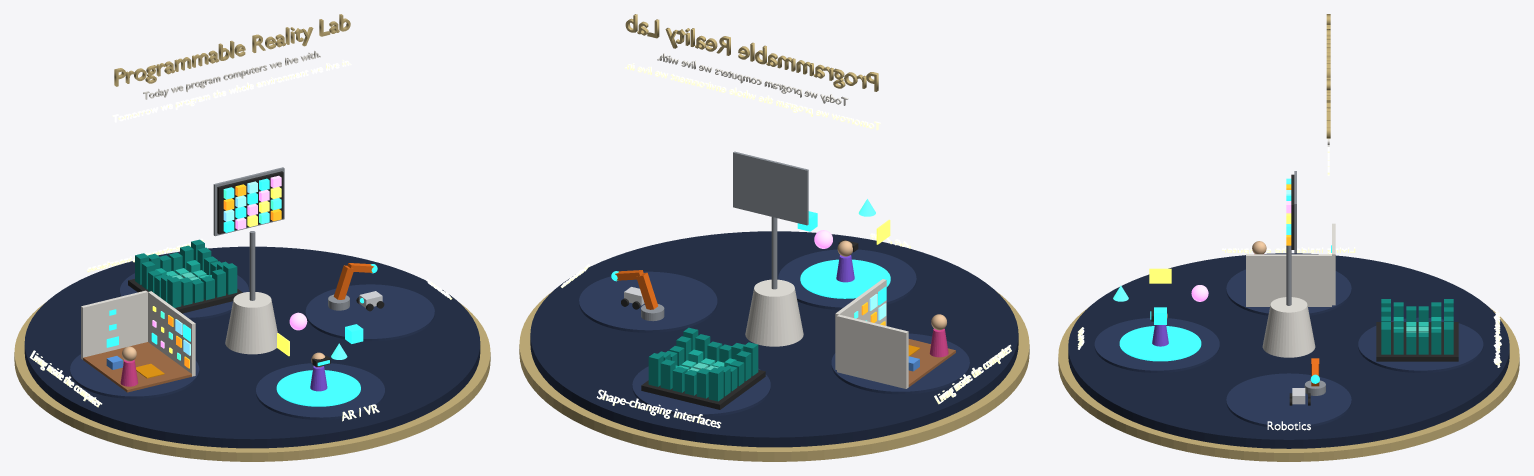
File: labResearchWork.glb
3 views of the same model, side by side, from view 1: azimuth 30°, elevation 25°; view 2: azimuth 150°, elevation 25°; view 3: azimuth 270°, elevation 25° (orthographic). The views are drawn at different scales.
Parts seen in each view (by area): view 1: BaseDisc, BaseRim, S2_Robotics_Pad, S1_ARVR_Pad, S4_SideWall, Pedestal, Title, S1_Ring, S4_Floor, S4_BackWall, S4_LivingIn_Pad, Tomorrow (+7 smaller); view 2: BaseDisc, BaseRim, S2_Robotics_Pad, ScreenBezel, S4_SideWall, S1_ARVR_Pad, Pedestal, Title, S4_LivingIn_Pad, S1_Ring, S3_ShapeChange_Pad, Tomorrow (+6 smaller); view 3: BaseDisc, BaseRim, S2_Robotics_Pad, S4_BackWall, S1_ARVR_Pad, Pedestal, S3_ShapeChange_Pad, S1_Ring, S3_PinBase, S4_LivingIn_Pad, Title.
Boxes of the visible parts, bbox=[...] form: BaseDisc: bbox=[24, 246, 480, 448]; BaseRim: bbox=[14, 302, 490, 461]; S2_Robotics_Pad: bbox=[305, 284, 434, 341]; S1_ARVR_Pad: bbox=[256, 363, 384, 419]; S4_SideWall: bbox=[81, 290, 147, 359]; Pedestal: bbox=[225, 292, 277, 354]; Title: bbox=[114, 14, 350, 86]; S1_Ring: bbox=[276, 370, 360, 406]; S4_Floor: bbox=[83, 342, 191, 392]; S4_BackWall: bbox=[148, 291, 195, 376]; S4_LivingIn_Pad: bbox=[70, 354, 199, 398]; Tomorrow: bbox=[112, 59, 351, 122]; BaseDisc: bbox=[530, 231, 1018, 447]; BaseRim: bbox=[519, 291, 1029, 461]; S2_Robotics_Pad: bbox=[579, 271, 717, 332]; ScreenBezel: bbox=[733, 151, 808, 225]; S4_SideWall: bbox=[837, 314, 908, 388]; S1_ARVR_Pad: bbox=[778, 249, 916, 309]; Pedestal: bbox=[745, 279, 803, 346]; Title: bbox=[625, 14, 878, 91]; S4_LivingIn_Pad: bbox=[831, 333, 969, 394]; S1_Ring: bbox=[800, 259, 890, 298]; S3_ShapeChange_Pad: bbox=[632, 366, 770, 416]; Tomorrow: bbox=[624, 63, 880, 130]; BaseDisc: bbox=[1068, 253, 1509, 448]; BaseRim: bbox=[1058, 307, 1519, 461]; S2_Robotics_Pad: bbox=[1226, 373, 1351, 428]; S4_BackWall: bbox=[1246, 254, 1331, 306]; S1_ARVR_Pad: bbox=[1094, 318, 1219, 372]; Pedestal: bbox=[1262, 297, 1315, 357]; S3_ShapeChange_Pad: bbox=[1358, 317, 1483, 372]; S1_Ring: bbox=[1119, 326, 1201, 361]; S3_PinBase: bbox=[1376, 322, 1458, 361]; S4_LivingIn_Pad: bbox=[1226, 269, 1351, 315]; Title: bbox=[1326, 14, 1330, 138].
Bounding box in the file's own units: 0.7 × 0.4945 × 0.7.
